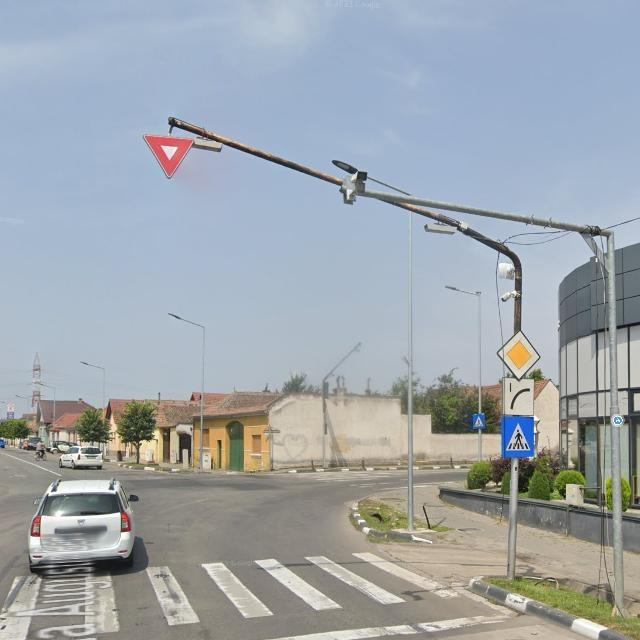info_crosswalk: (501, 415, 535, 457), (472, 413, 486, 429)
prio_give_way: (143, 134, 196, 180)
